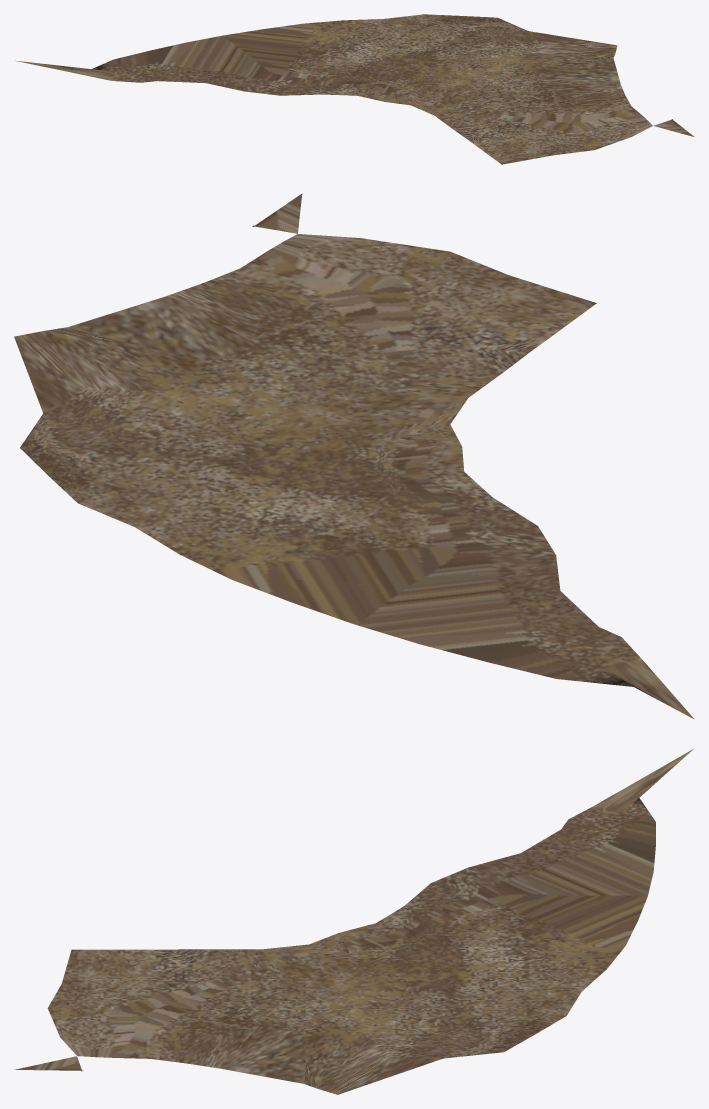
Rendered from suelo_t_5.obj.
The picture shows the model from 3 angles, top to bottom: view 1: azimuth 30°, elevation 25°; view 2: azimuth 150°, elevation 25°; view 3: azimuth 270°, elevation 25°; orthographic projection. The views are drawn at different scales.
Parts seen in each view (by area): view 1: suelo_t_5; view 2: suelo_t_5; view 3: suelo_t_5.
Part boxes in pixels (x1,y1,x2,y2): suelo_t_5: (15, 14, 693, 164); suelo_t_5: (14, 193, 694, 719); suelo_t_5: (14, 749, 693, 1094).
Bounding box in the file's own units: 508 × 9.97 × 439.
Materials: 1 (1 with a texture image).
